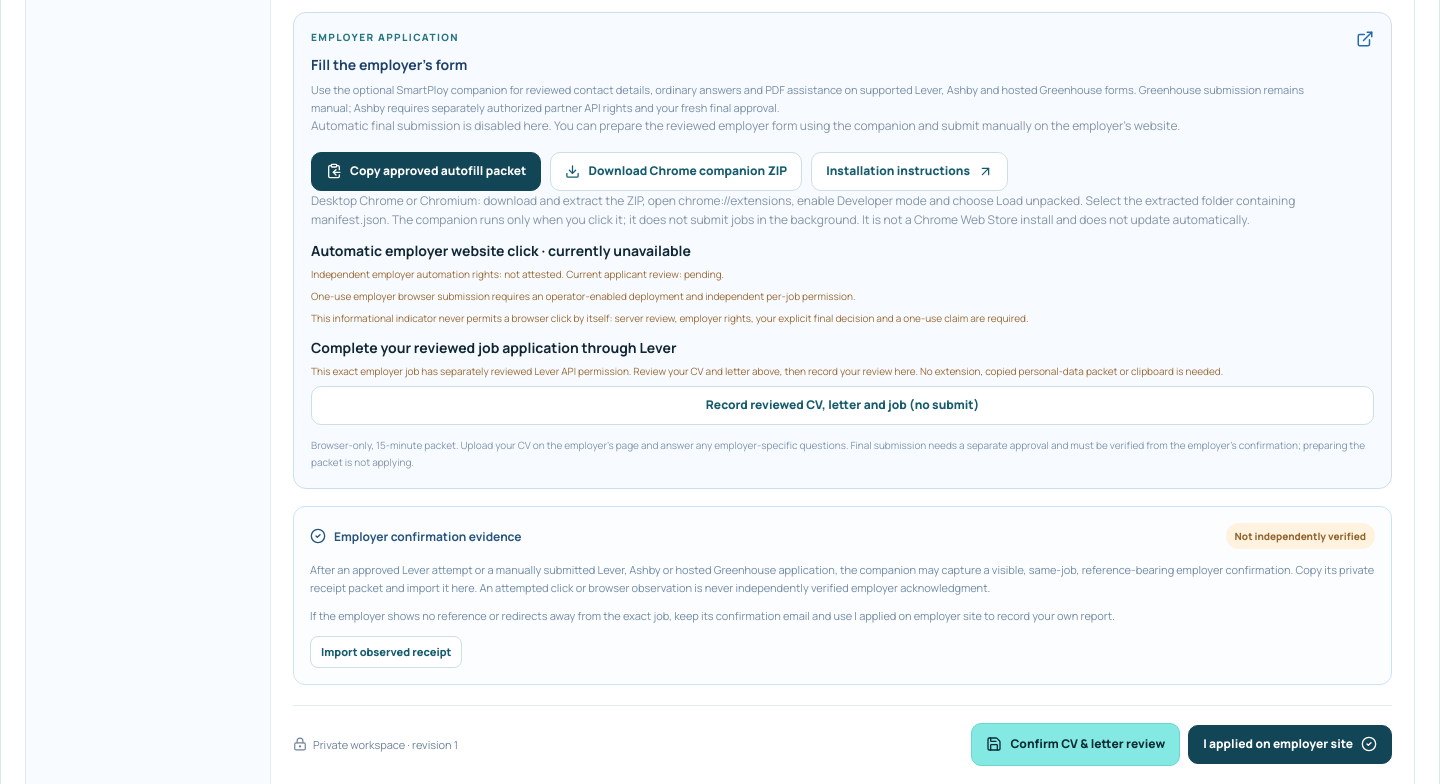
Application Studio private-read account boundary › reviews and completes a real authorized partner application without copying private data
(page scrolled)
Check: the element named "Official Lever partner submission" shows "No extension, copied personal-data packet or clipboard", box [559,364,1223,378]
Check: the button "Submit reviewed application to authorized Lever employer" is not shown
Click the button "Record reviewed CV, letter and job (no submit)" at (842,406), box [311,386,1374,425]
(page scrolled)
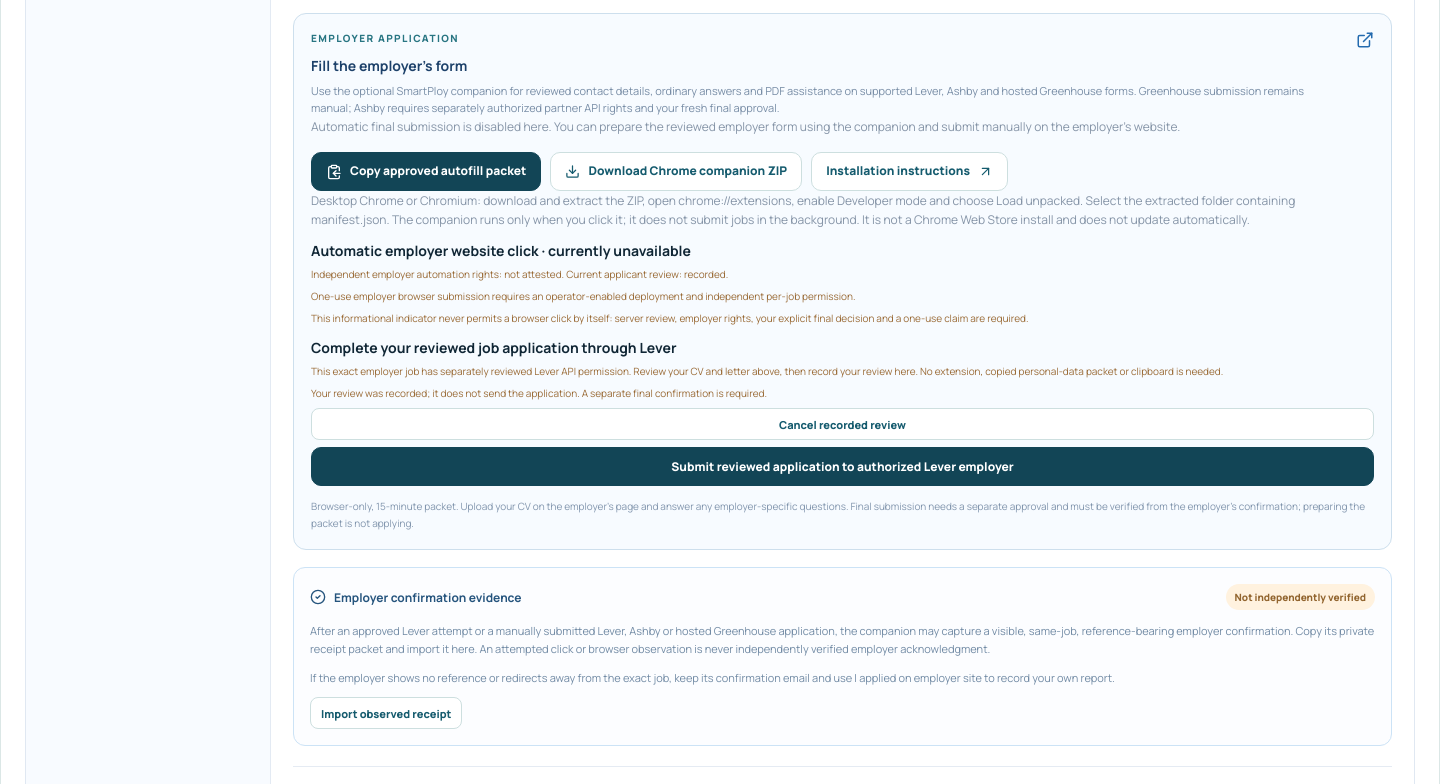
Check: the button "Submit reviewed application to authorized Lever employer" is enabled
Click the button "Submit reviewed application to authorized Lever employer" at (842,467), box [311,447,1374,486]
(page scrolled)
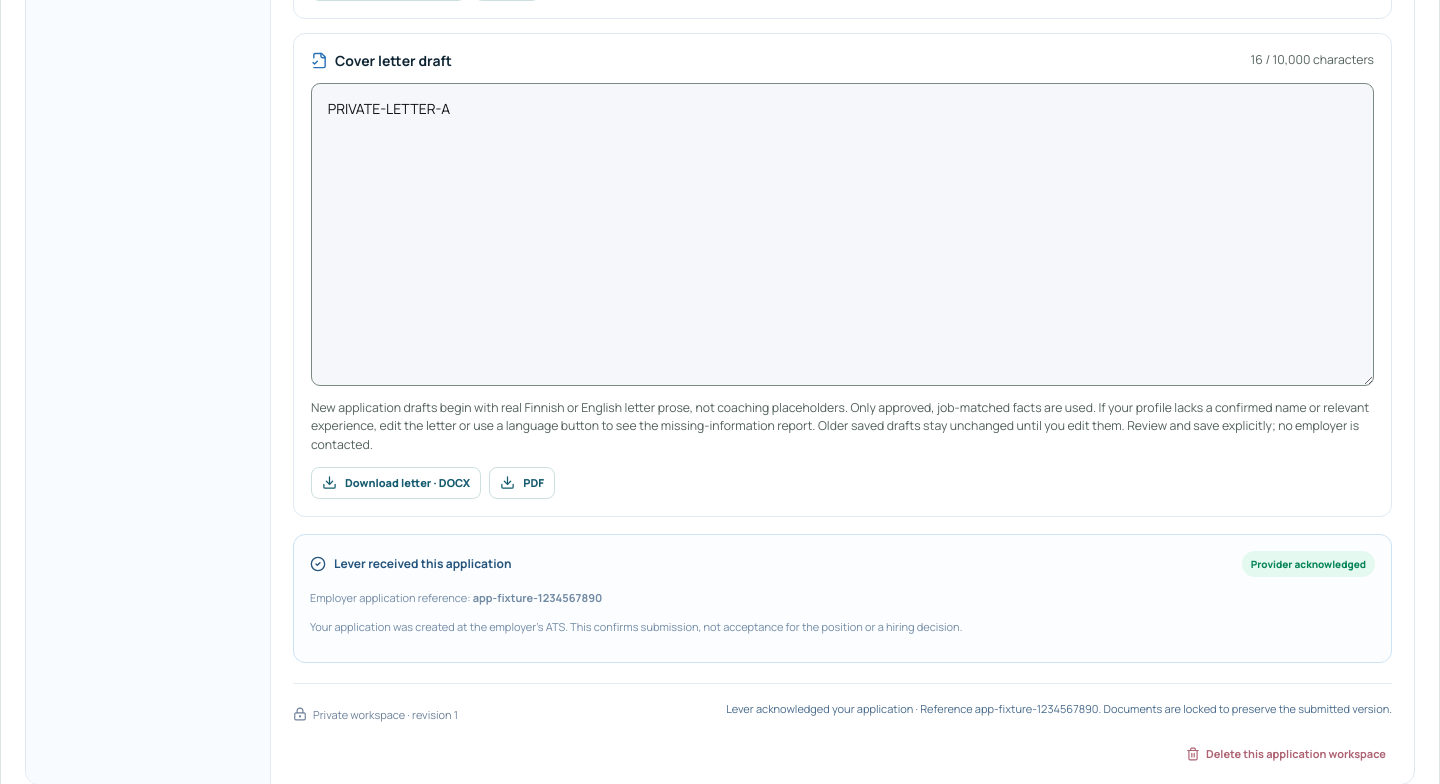
Check: the element named "Official Lever provider acknowledgement" shows "app-fixture-1234567890", box [473,590,602,605]
Check: the text "Documents are locked to preserve the submitted version" is shown, box [1099,701,1392,716]
Check: the text "I applied on employer site" is gone
